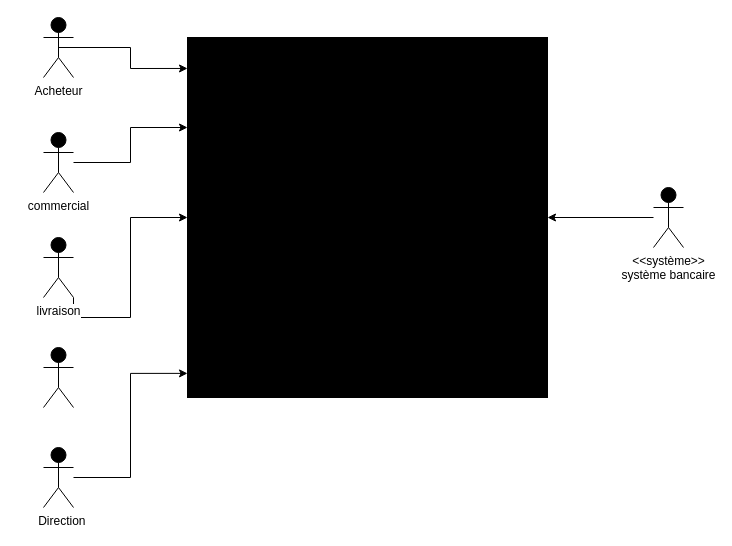
Image size: 732x546. Some labels were removed from this diagram. Here are the shapes that lost their labels. From the top down, the box of each, then its label:
(186, 36, 548, 398): system
(42, 346, 74, 408): Administration
